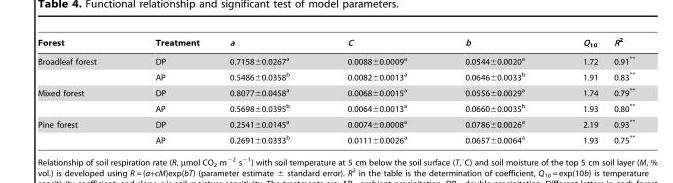table: (36, 36, 634, 144)
table column: (317, 36, 435, 144), (435, 36, 553, 144), (213, 36, 317, 144), (36, 36, 125, 144), (125, 36, 213, 144), (553, 36, 605, 144), (605, 36, 634, 144)
table column header: (36, 36, 634, 51)
table row: (36, 51, 634, 68), (36, 68, 634, 84), (36, 99, 634, 115), (36, 115, 634, 131), (36, 36, 634, 51), (36, 84, 634, 99), (36, 131, 634, 144)
table spanning cell: (36, 51, 125, 84), (36, 84, 125, 115), (36, 115, 125, 144)
